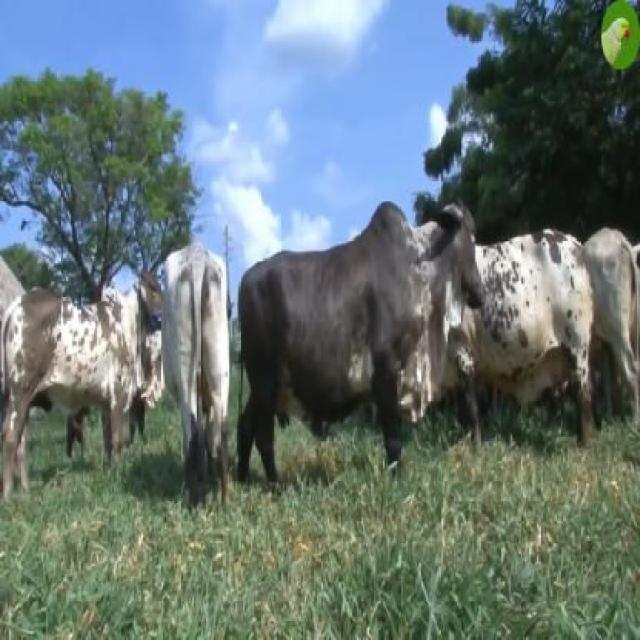Cow: (237, 202, 486, 492)
